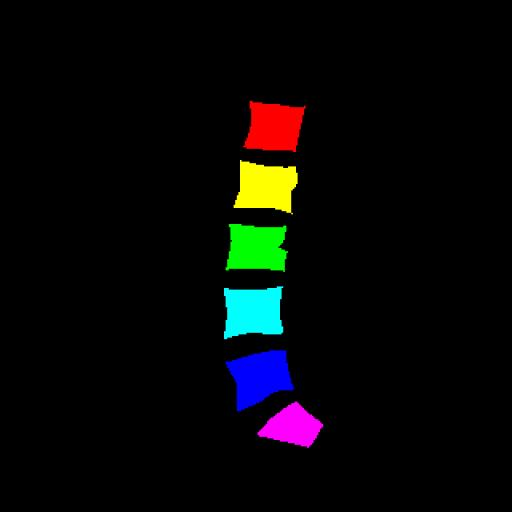L1: (244, 101, 305, 152)
L2: (234, 161, 298, 213)
L3: (226, 224, 287, 271)
L4: (224, 286, 283, 338)
L5: (226, 350, 293, 410)
S1: (258, 402, 323, 447)
